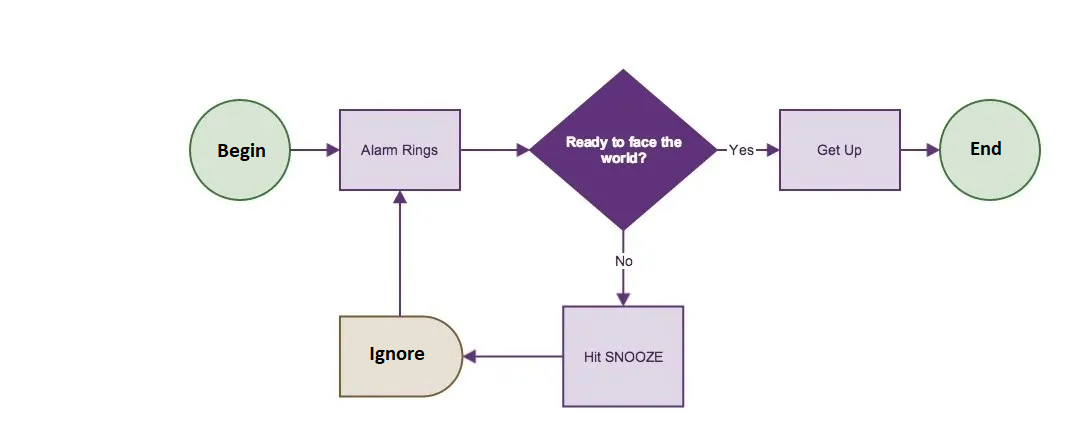arrow: (388, 187, 411, 320), (609, 226, 636, 307), (462, 348, 569, 365), (712, 141, 784, 162), (456, 140, 530, 159), (897, 139, 944, 160), (288, 142, 341, 160)
connection: (185, 96, 294, 203), (936, 96, 1044, 203)
decision: (526, 66, 718, 233)
process: (559, 303, 687, 410), (776, 105, 906, 195), (336, 313, 465, 401), (336, 106, 464, 194)
text: (560, 133, 686, 167), (579, 346, 668, 367), (359, 140, 442, 162), (363, 344, 427, 365), (813, 139, 866, 162), (213, 139, 268, 161), (967, 138, 1004, 161), (725, 141, 759, 160), (612, 253, 640, 270)
